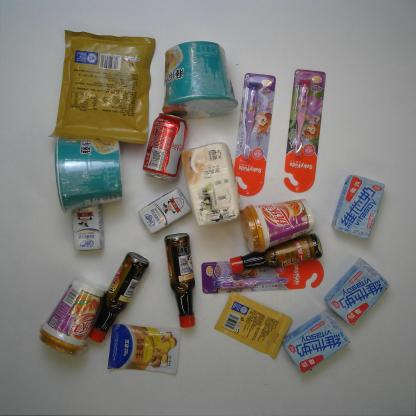Dried Fruit: (47, 29, 157, 145)
Drink: (141, 111, 189, 182)
Instant Drink: (37, 277, 106, 357), (239, 198, 316, 254)
Instant Noodles: (160, 40, 239, 120), (53, 133, 125, 215)
Milk: (322, 257, 390, 327), (282, 309, 350, 374), (330, 173, 386, 242), (138, 187, 193, 235), (70, 203, 105, 252)
Personal Hygiene: (283, 68, 327, 194), (233, 73, 277, 198), (201, 262, 325, 294)
Seasoner: (87, 251, 150, 344), (213, 288, 292, 360), (229, 232, 324, 275), (106, 323, 182, 375), (164, 232, 197, 328)
Tissue: (181, 142, 242, 227)
